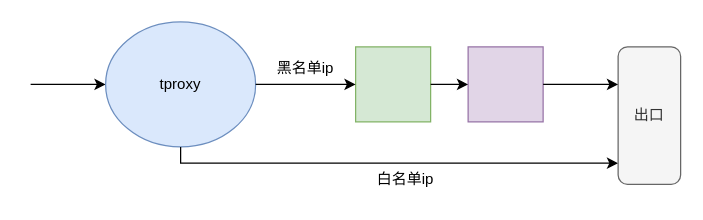
Image size: 703x220. Some labels were removed from this diagram. Each missing label, with the centre of its shape:
ipt2socks: (392,84)
stclient: (505,84)
